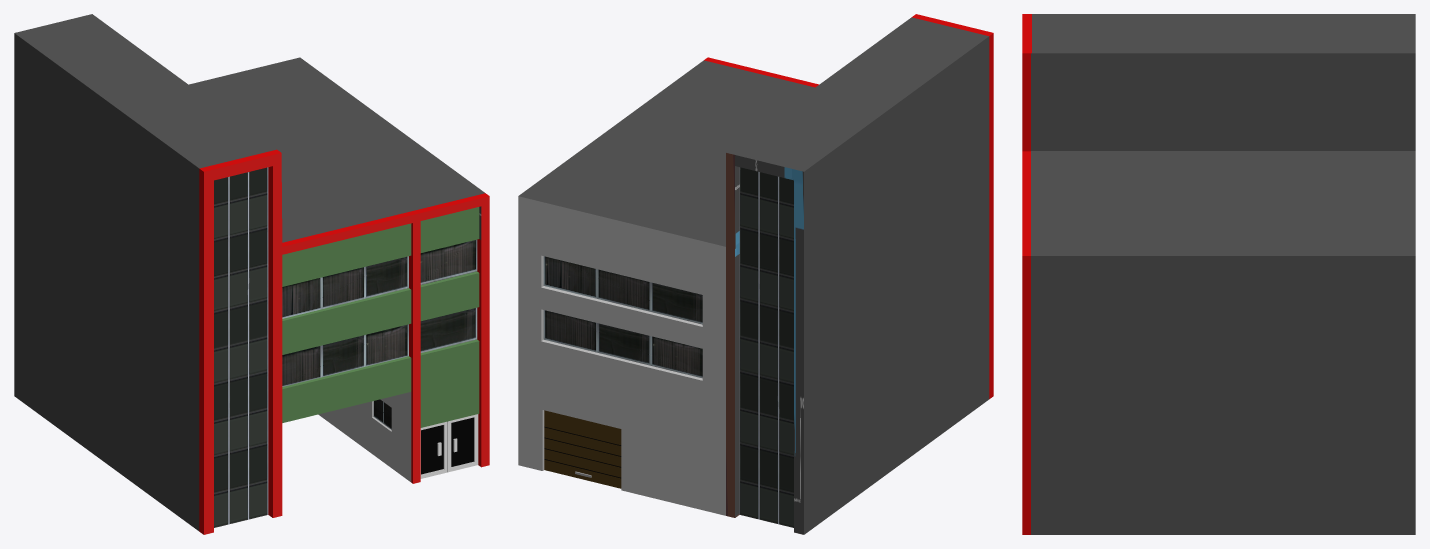
3 renders of one model, left to right at view 1: azimuth 30°, elevation 25°; view 2: azimuth 150°, elevation 25°; view 3: azimuth 270°, elevation 25°, orthographic. The views are drawn at different scales.
Parts seen in each view (by area): view 1: BB-020; view 2: BB-020; view 3: BB-020.
Boxes of the visible parts, x1,y1,x2,y2 form: BB-020: [14, 14, 489, 534]; BB-020: [518, 14, 993, 534]; BB-020: [1022, 14, 1415, 534].
Size of what is drawn, in the model's own units: 13.18 by 16 by 15.15.
